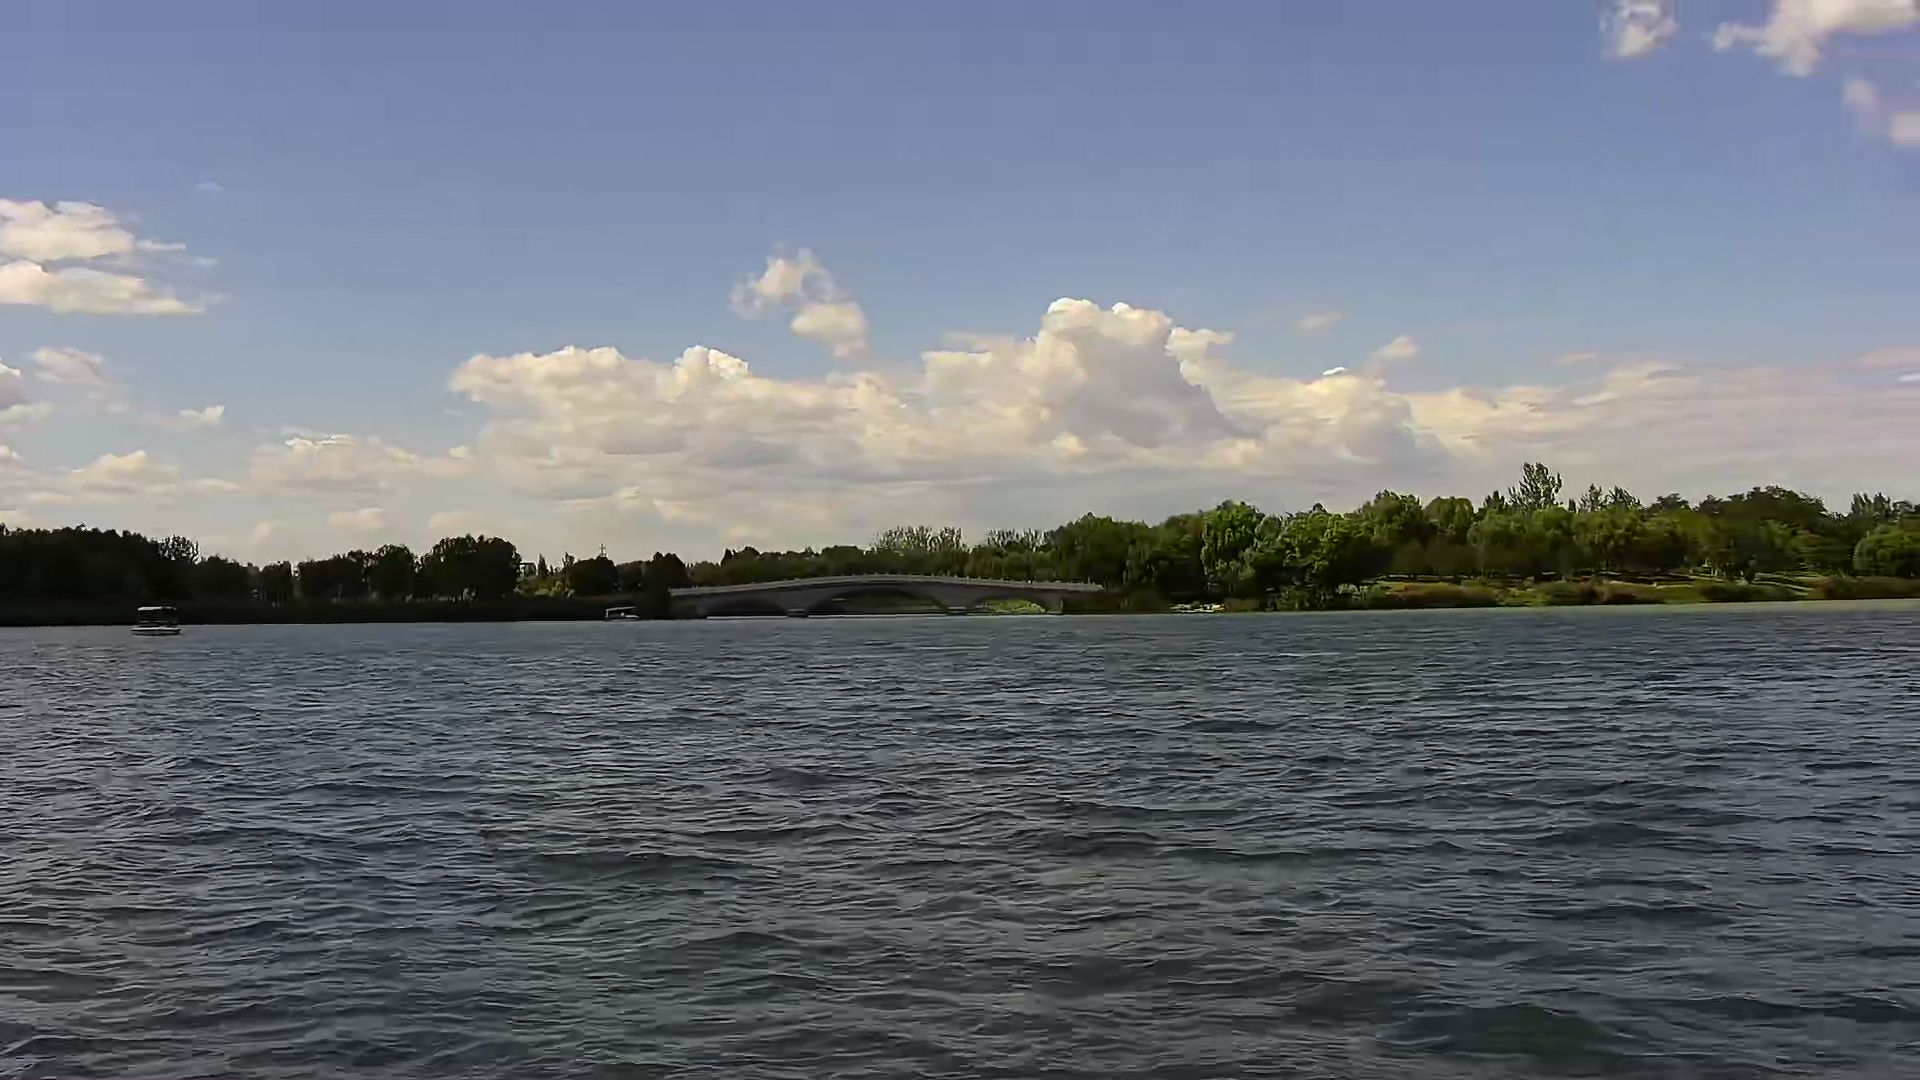boat: (125, 603, 193, 644)
bridge: (669, 568, 1106, 620)
